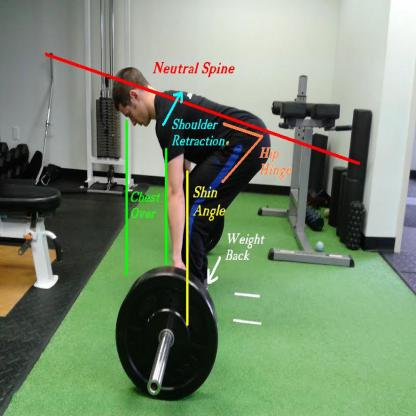Barbell: (113, 261, 224, 404)
